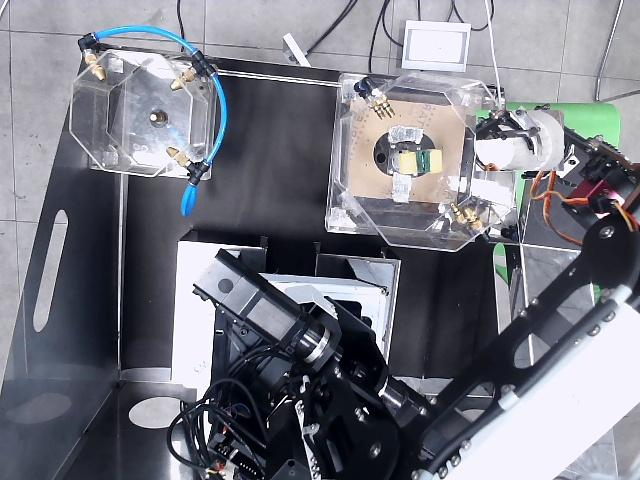cup: (476, 110, 564, 171)
